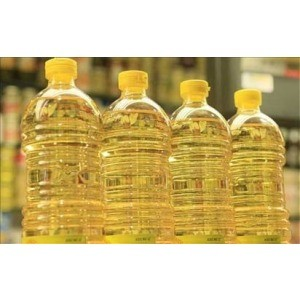vegetable oil_brain food: (19, 92, 93, 240), (101, 108, 168, 239), (170, 114, 229, 236), (234, 129, 287, 238)
